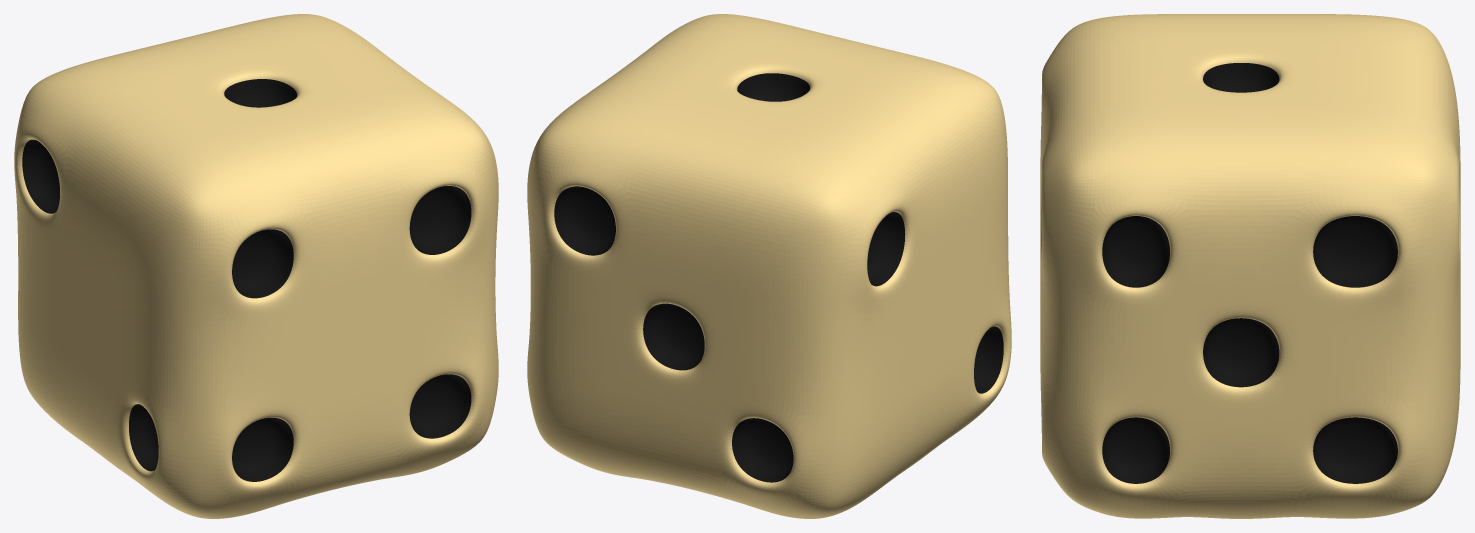
The model's file is Dice.fbx.
3 renders of one model, left to right at view 1: azimuth 30°, elevation 25°; view 2: azimuth 150°, elevation 25°; view 3: azimuth 270°, elevation 25°, orthographic. The views are drawn at different scales.
Parts seen in each view (by area): view 1: Cube; view 2: Cube; view 3: Cube.
Part boxes in pixels (<box>): Cube: <box>14,14,498,518</box>; Cube: <box>527,14,1011,518</box>; Cube: <box>1040,14,1460,518</box>.
Bounding box in the file's own units: 60 × 60 × 60.
